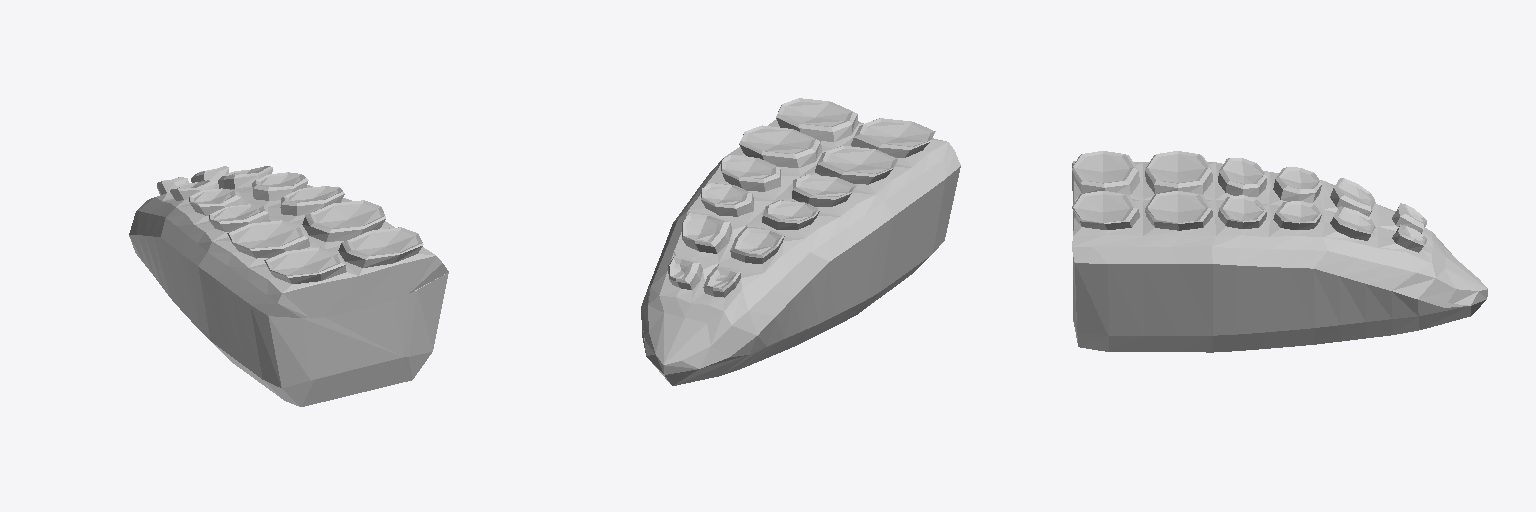
Rendered from tentacle.obj.
3 views of the same model, side by side, from view 1: azimuth 30°, elevation 25°; view 2: azimuth 150°, elevation 25°; view 3: azimuth 270°, elevation 25° (orthographic).
Parts seen in each view (by area): view 1: Cube; view 2: Cube; view 3: Cube.
Boxes of the visible parts, box(x1,y1,x2,y2) form: Cube: box(129, 166, 448, 406); Cube: box(641, 98, 960, 385); Cube: box(1072, 151, 1487, 352).
Size of the model in its own units: 1.3 by 0.9333 by 2.55.